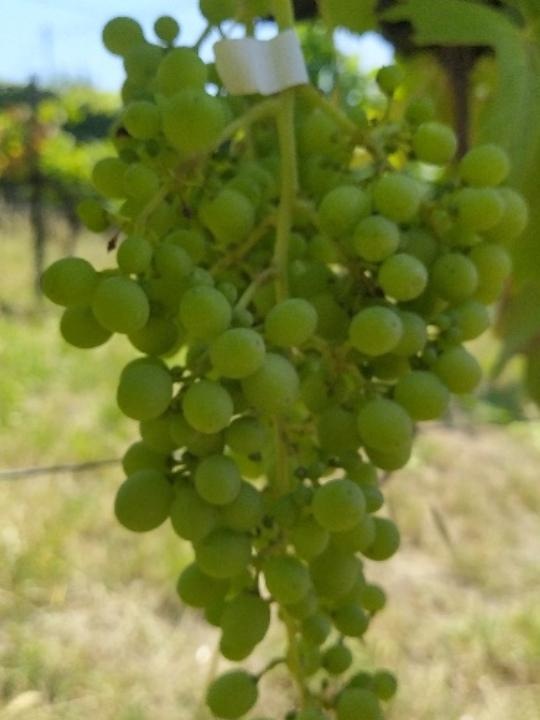grape: (30, 13, 537, 720)
